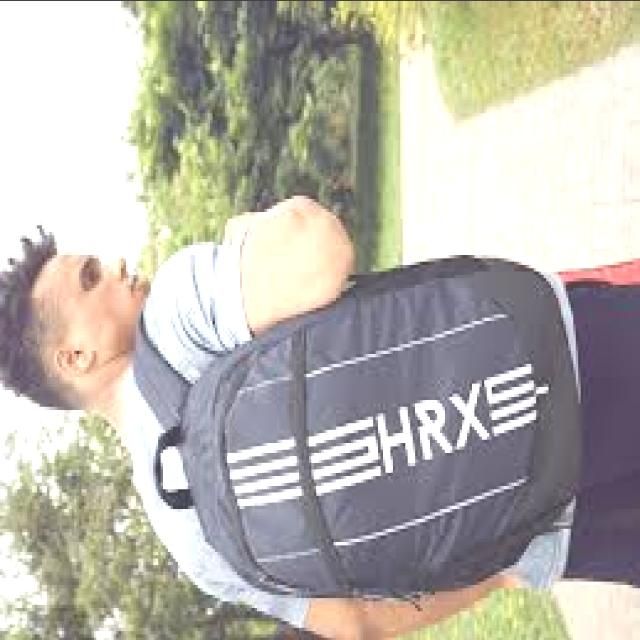backpack: (135, 255, 587, 605)
